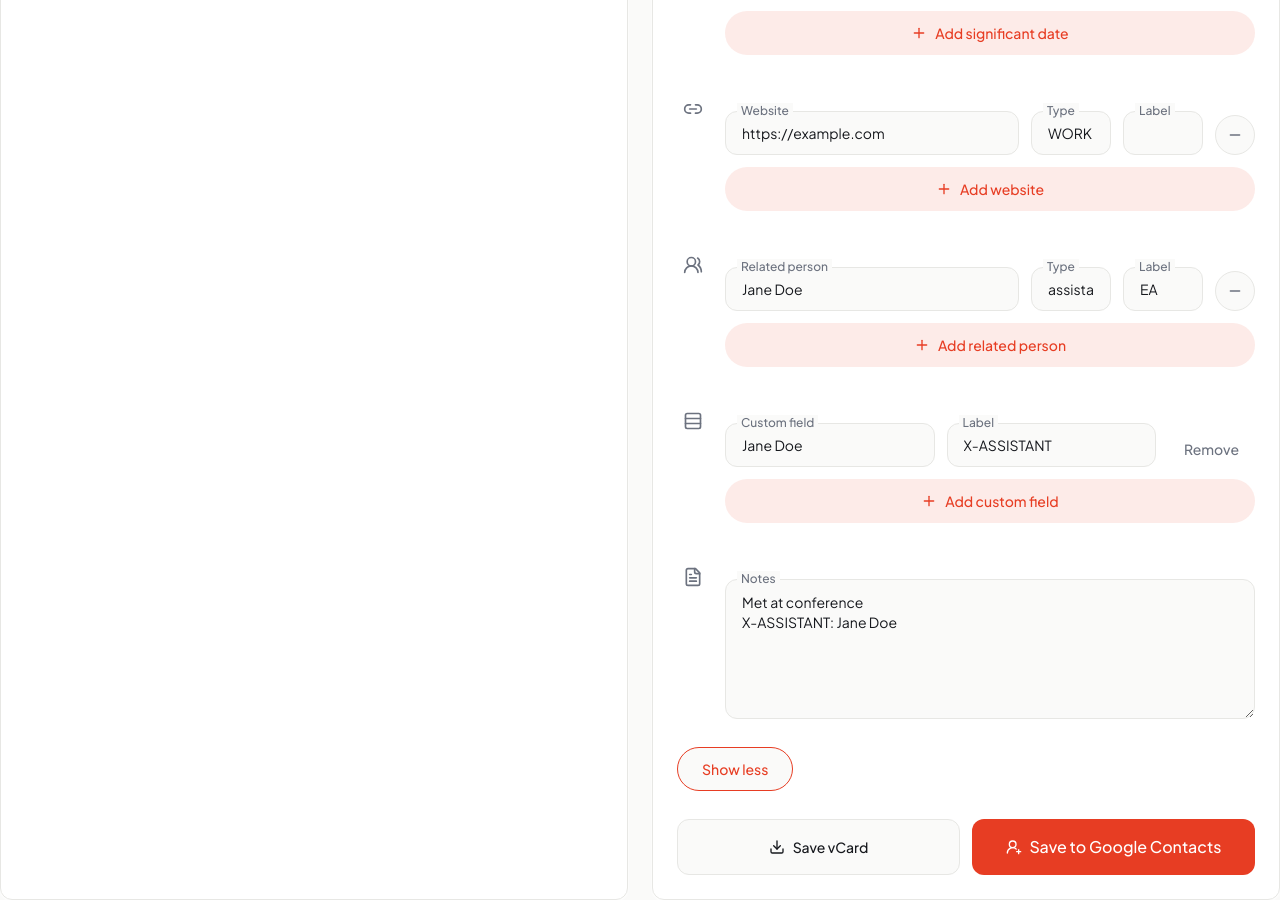
Scenario: ReviewWorkspace › clears persisted review state and returns to capture when scanning another card
(page scrolled)
Click the button "Save to Google Contacts": coordinates (1114, 847) [972,819,1255,875]
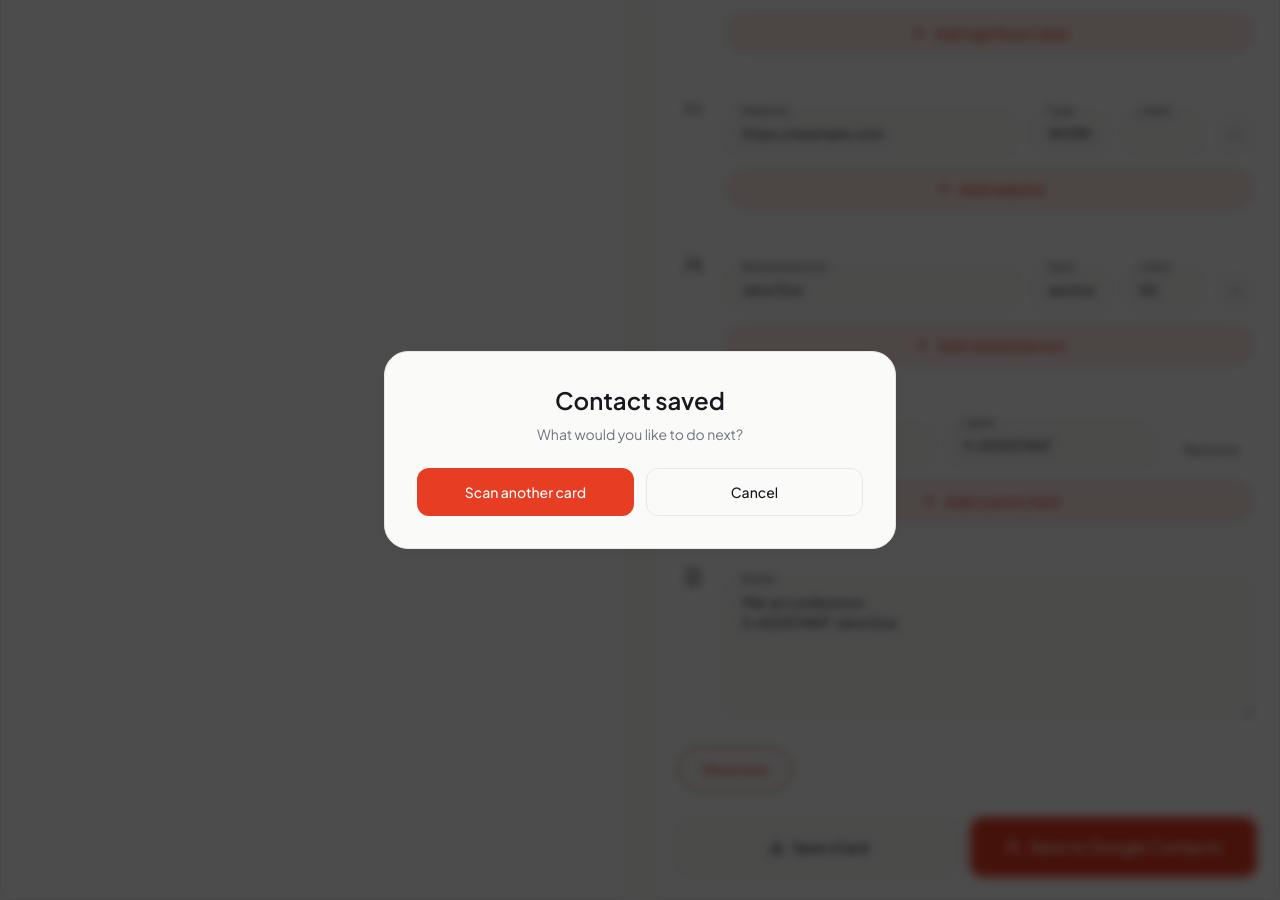
Expected: the dialog "Contact saved" is shown
Click the button "Scan another card": coordinates (526, 492) [417,468,634,516]
(page scrolled)
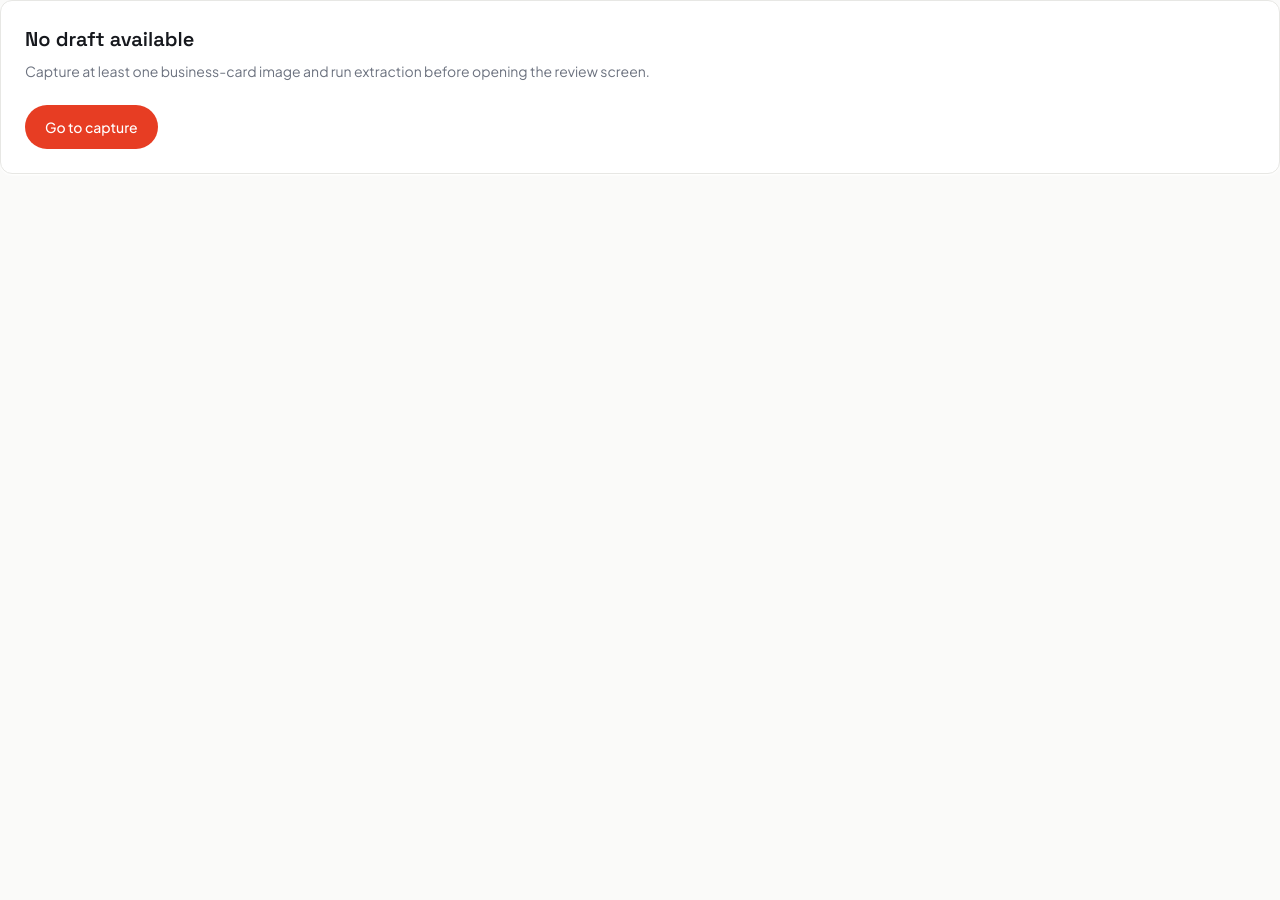
Expected: the heading "Contact saved" is gone
